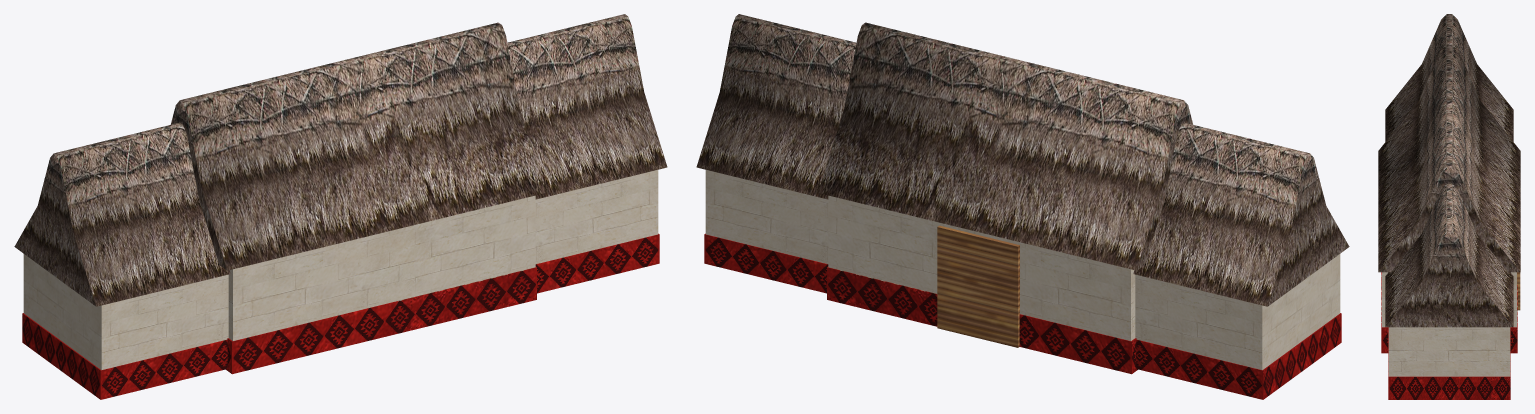
The model's file is house_5.dae.
3 views of the same model, side by side, from view 1: azimuth 30°, elevation 25°; view 2: azimuth 150°, elevation 25°; view 3: azimuth 270°, elevation 25° (orthographic). The views are drawn at different scales.
Visible parts, largest first — view 1: 5; view 2: 5; view 3: 5.
Part boxes in pixels (left/top/right/bottom): 5: left=14, top=14, right=667, bottom=399; 5: left=696, top=14, right=1349, bottom=399; 5: left=1378, top=14, right=1520, bottom=399.
Bounding box in the file's own units: 23.96 × 6.61 × 9.72.
